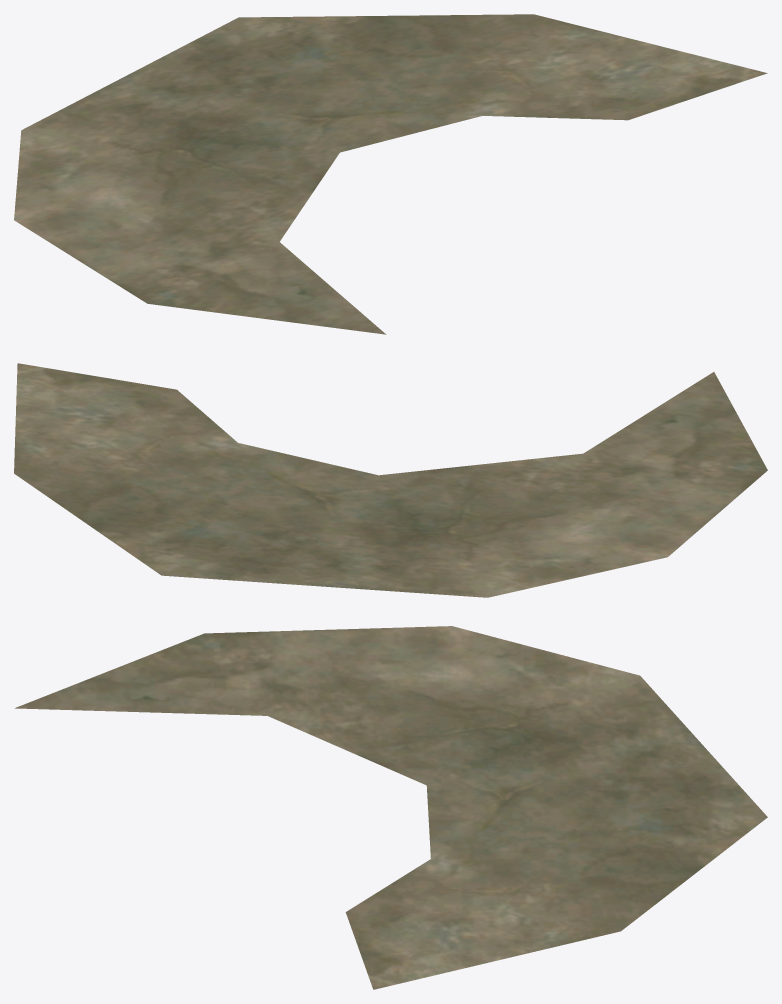
File: OVERHILL_A_01_LINE89.fbx
3 renders of one model, top to bottom at view 1: azimuth 30°, elevation 25°; view 2: azimuth 150°, elevation 25°; view 3: azimuth 270°, elevation 25°, orthographic. The views are drawn at different scales.
Parts seen in each view (by area): view 1: OVERHILL_A_01_LINE89; view 2: OVERHILL_A_01_LINE89; view 3: OVERHILL_A_01_LINE89.
Part boxes in pixels (box(x1,y1,x2,y2)): OVERHILL_A_01_LINE89: box(14, 14, 767, 334); OVERHILL_A_01_LINE89: box(14, 363, 767, 597); OVERHILL_A_01_LINE89: box(15, 626, 767, 989).
Bounding box in the file's own units: 27203 × 0.00388 × 23821.
1 material, 1 textured.
